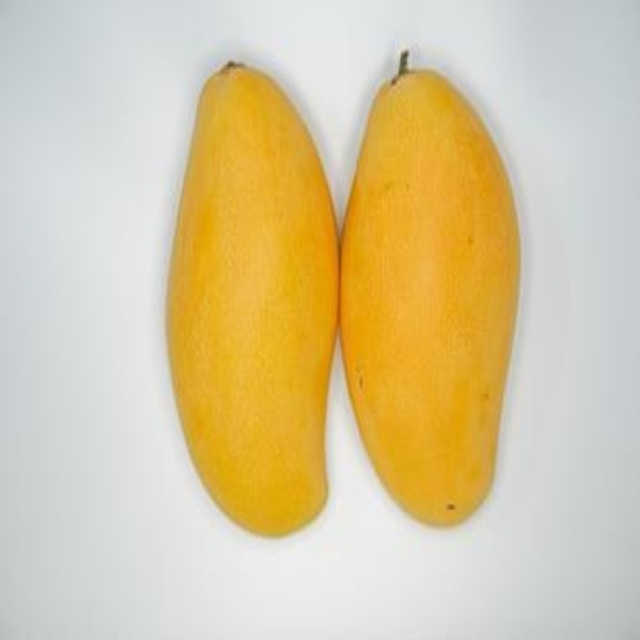mango: (329, 57, 524, 545), (176, 64, 341, 534)
